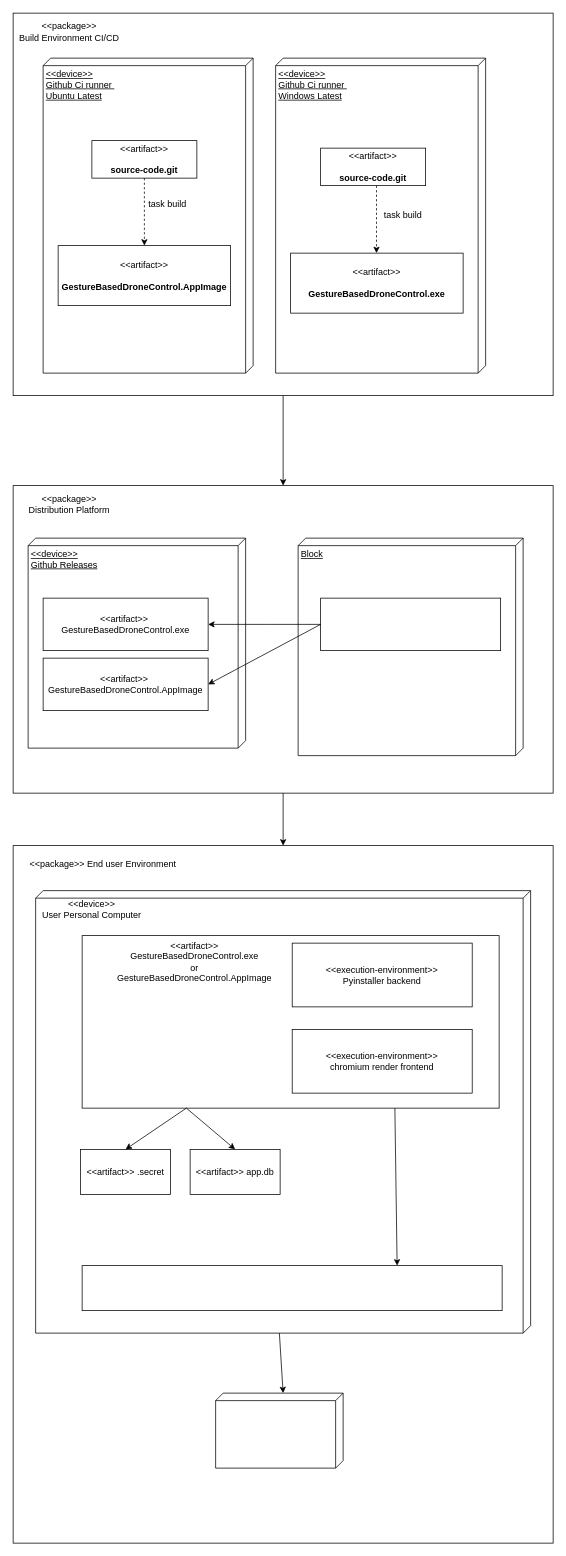
The diagram is 566 pixels wide and 1556 high, and some of its shapes have lost their labels. The shapes that lost their labels are listed below. From the top down, each one's centre as x and y in pixels, then its label:
pixel 410 624: <<artifact>> Landing page /docs (MKdocs)
pixel 291 1288: <<optional>> Project Airsim Instance
pixel 279 1430: <<device>> Wifi Drone
